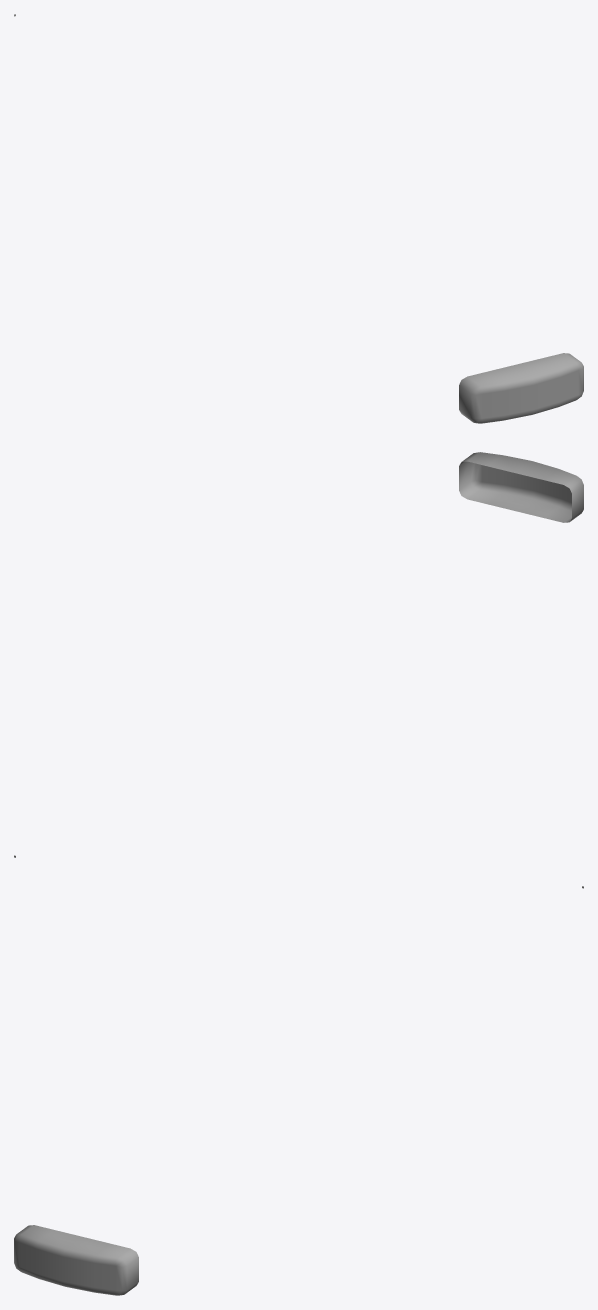
File: AlarmClockButton_3_AlarmClockButton_3_1_GeomSubset_2.obj
The picture shows the model from 3 angles, top to bottom: view 1: azimuth 30°, elevation 25°; view 2: azimuth 150°, elevation 25°; view 3: azimuth 330°, elevation 25°; orthographic projection.
Visible parts, largest first — view 1: AlarmClockButton_3_AlarmClockButton_3_1_GeomSubset_2; view 2: AlarmClockButton_3_AlarmClockButton_3_1_GeomSubset_2; view 3: AlarmClockButton_3_AlarmClockButton_3_1_GeomSubset_2.
Boxes of the visible parts, bbox=[...] form: AlarmClockButton_3_AlarmClockButton_3_1_GeomSubset_2: bbox=[14, 14, 583, 423]; AlarmClockButton_3_AlarmClockButton_3_1_GeomSubset_2: bbox=[14, 452, 583, 857]; AlarmClockButton_3_AlarmClockButton_3_1_GeomSubset_2: bbox=[14, 886, 583, 1295].
Bounding box in the file's own units: 0.0599 × 0.0192 × 0.4765.
